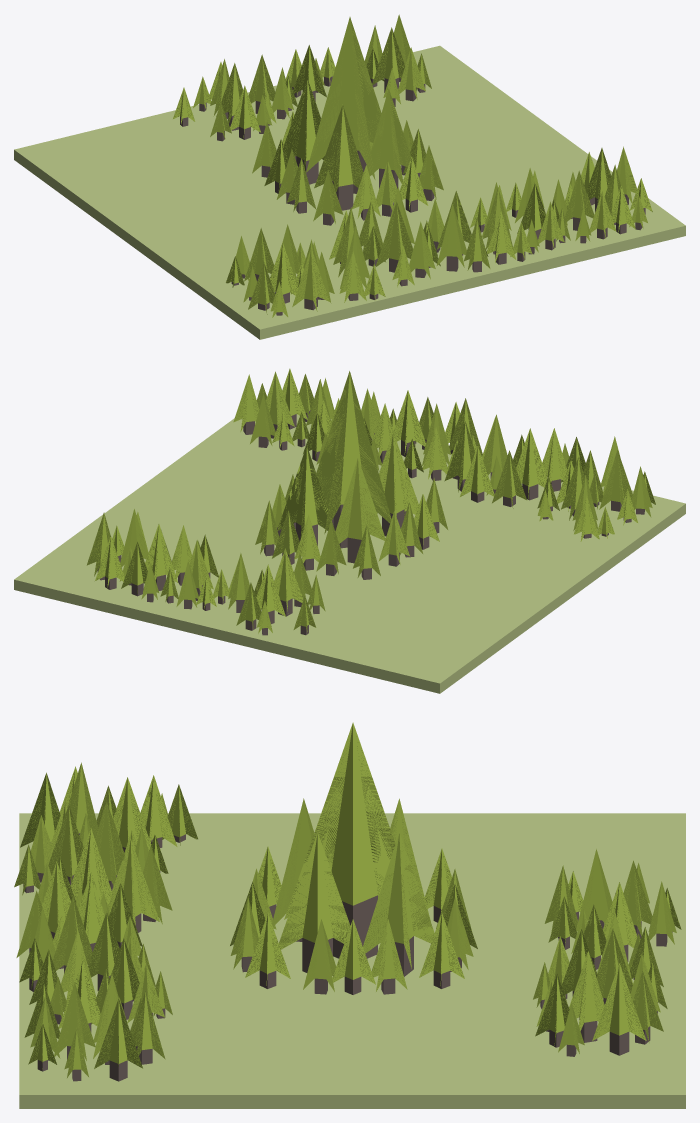
Rendered from Forest III.fbx.
The picture shows the model from 3 angles, top to bottom: view 1: azimuth 30°, elevation 25°; view 2: azimuth 150°, elevation 25°; view 3: azimuth 270°, elevation 25°; orthographic projection. The views are drawn at different scales.
Visible parts, largest first — view 1: Forest III, Tree Layer Forest III; view 2: Forest III, Tree Layer Forest III; view 3: Forest III, Tree Layer Forest III.
Part boxes in pixels (x1,y1,x2,y2): Forest III: (14, 45, 685, 339); Tree Layer Forest III: (173, 14, 652, 317); Forest III: (14, 414, 685, 693); Tree Layer Forest III: (86, 368, 655, 635); Forest III: (19, 813, 685, 1108); Tree Layer Forest III: (14, 722, 681, 1081).
Bounding box in the file's own units: 1600 × 652 × 1613.
